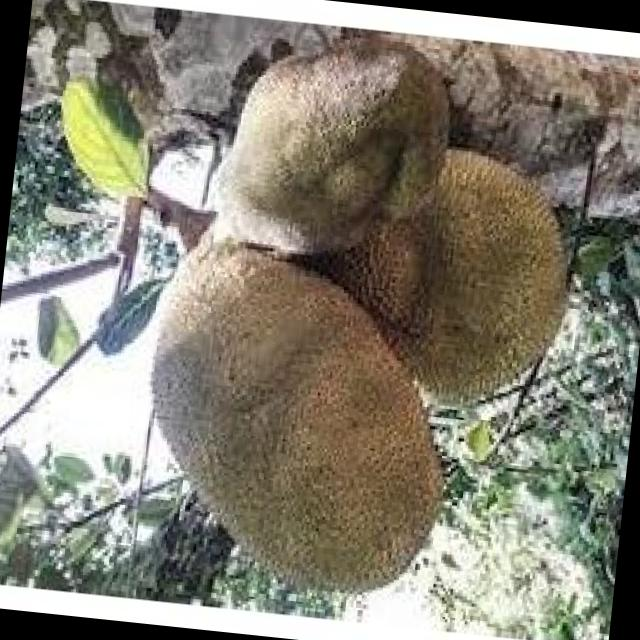Fruit: (128, 217, 494, 625), (255, 106, 613, 447)
